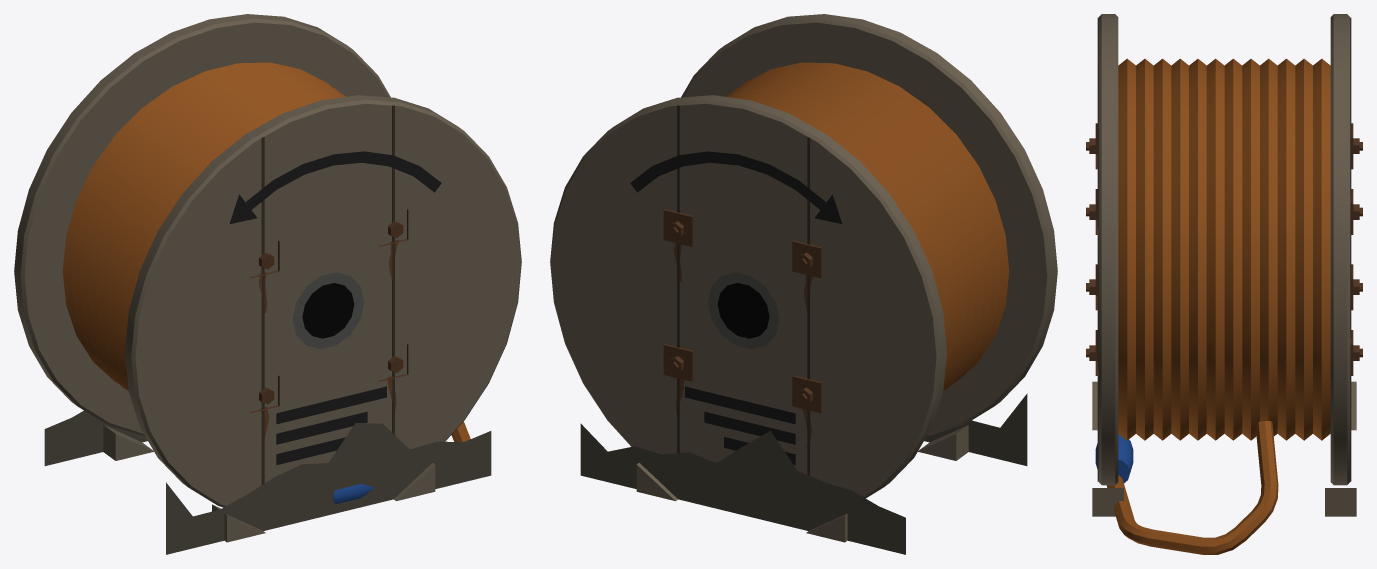
The model's file is cable_reel.glb.
3 renders of one model, left to right at view 1: azimuth 30°, elevation 25°; view 2: azimuth 150°, elevation 25°; view 3: azimuth 270°, elevation 25°, orthographic. The views are drawn at different scales.
Parts seen in each view (by area): view 1: kabeltrommel0, kabeltrommel8, kabeltrommel7, kabeltrommel6, kabeltrommel2, kabeltrommel1, kabeltrommel3, kabeltrommel4; view 2: kabeltrommel0, kabeltrommel8, kabeltrommel7, kabeltrommel6, kabeltrommel4, kabeltrommel2, kabeltrommel3, kabeltrommel1; view 3: kabeltrommel8, kabeltrommel0, kabeltrommel4, kabeltrommel1, kabeltrommel9.
Boxes of the visible parts, left/top/right/bottom form: kabeltrommel0: left=14, top=14, right=521, bottom=542; kabeltrommel8: left=62, top=62, right=470, bottom=441; kabeltrommel7: left=44, top=410, right=491, bottom=554; kabeltrommel6: left=229, top=151, right=441, bottom=465; kabeltrommel2: left=302, top=283, right=354, bottom=338; kabeltrommel1: left=141, top=49, right=394, bottom=484; kabeltrommel3: left=292, top=272, right=363, bottom=349; kabeltrommel4: left=249, top=209, right=408, bottom=413; kabeltrommel0: left=550, top=14, right=1057, bottom=542; kabeltrommel8: left=726, top=62, right=1009, bottom=390; kabeltrommel7: left=580, top=393, right=1027, bottom=554; kabeltrommel6: left=630, top=151, right=842, bottom=465; kabeltrommel4: left=663, top=209, right=822, bottom=413; kabeltrommel2: left=717, top=283, right=769, bottom=338; kabeltrommel3: left=708, top=272, right=779, bottom=349; kabeltrommel1: left=677, top=49, right=930, bottom=475; kabeltrommel8: left=1106, top=58, right=1330, bottom=554; kabeltrommel0: left=1092, top=14, right=1356, bottom=516; kabeltrommel4: left=1086, top=123, right=1362, bottom=375; kabeltrommel1: left=1097, top=17, right=1351, bottom=481; kabeltrommel9: left=1095, top=434, right=1133, bottom=483.
Bounding box in the file's own units: 0.6 × 0.6 × 0.352.
